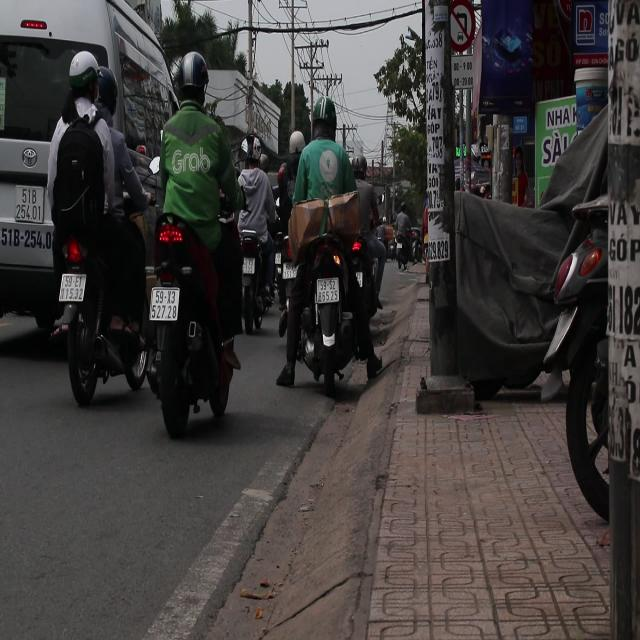car: (0, 0, 209, 380)
motorbike: (48, 212, 152, 415), (277, 210, 385, 395), (142, 208, 228, 437), (228, 212, 279, 361), (391, 214, 412, 287)
